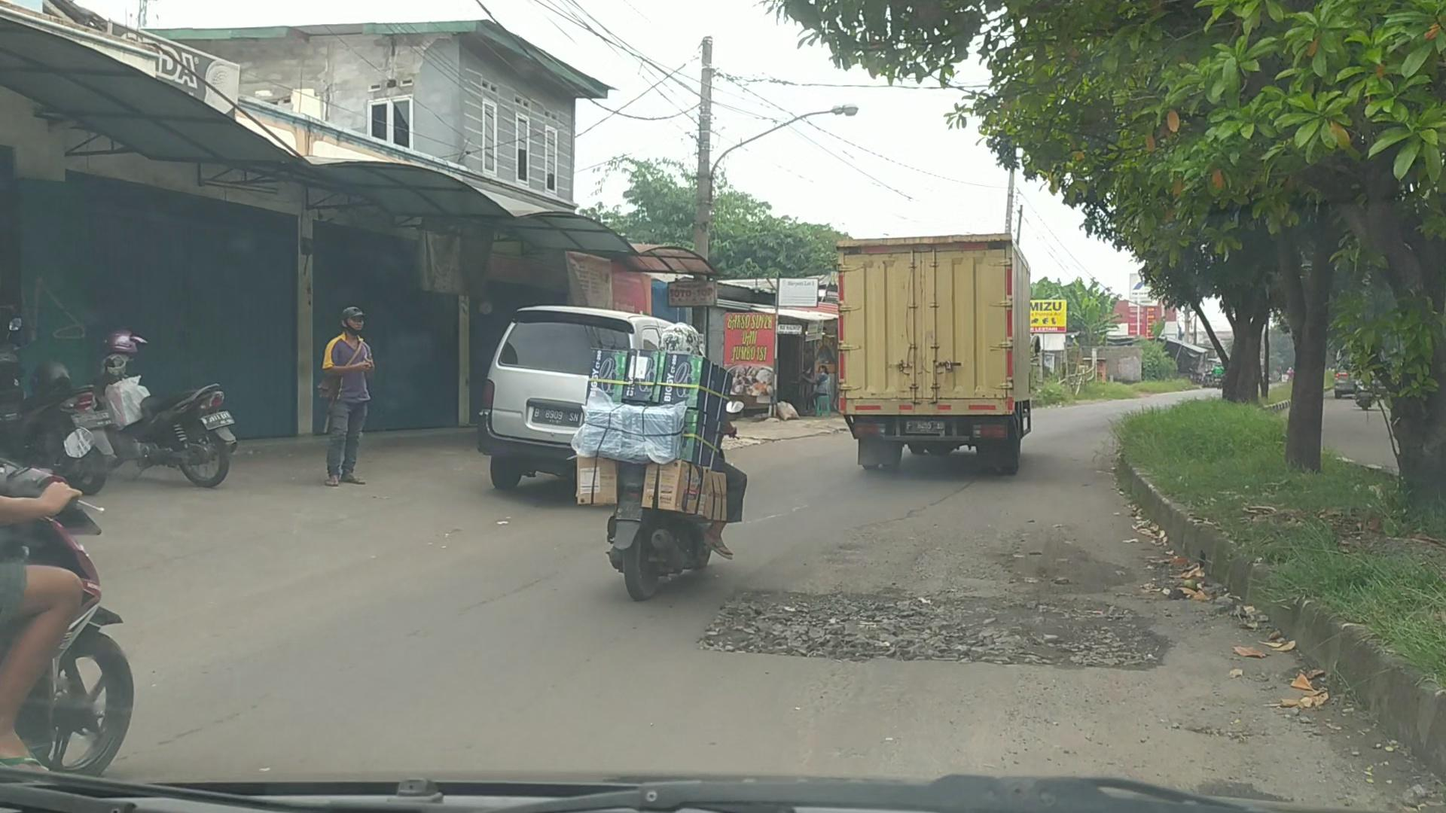pothole: (693, 587, 1170, 672)
